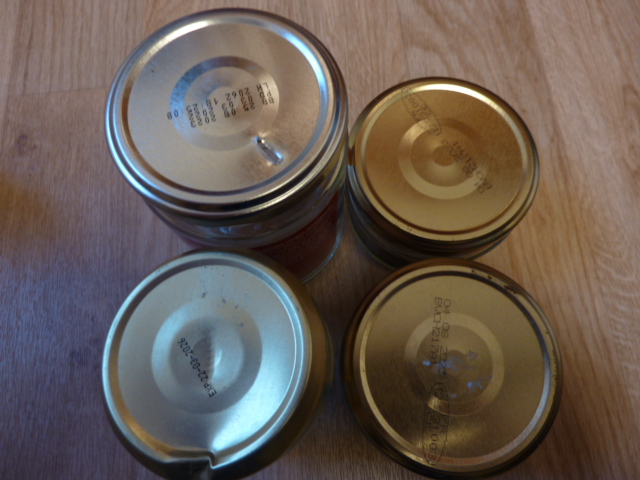damaged: (107, 10, 345, 218), (94, 255, 313, 476)
intact: (347, 263, 567, 473), (348, 72, 542, 243)
